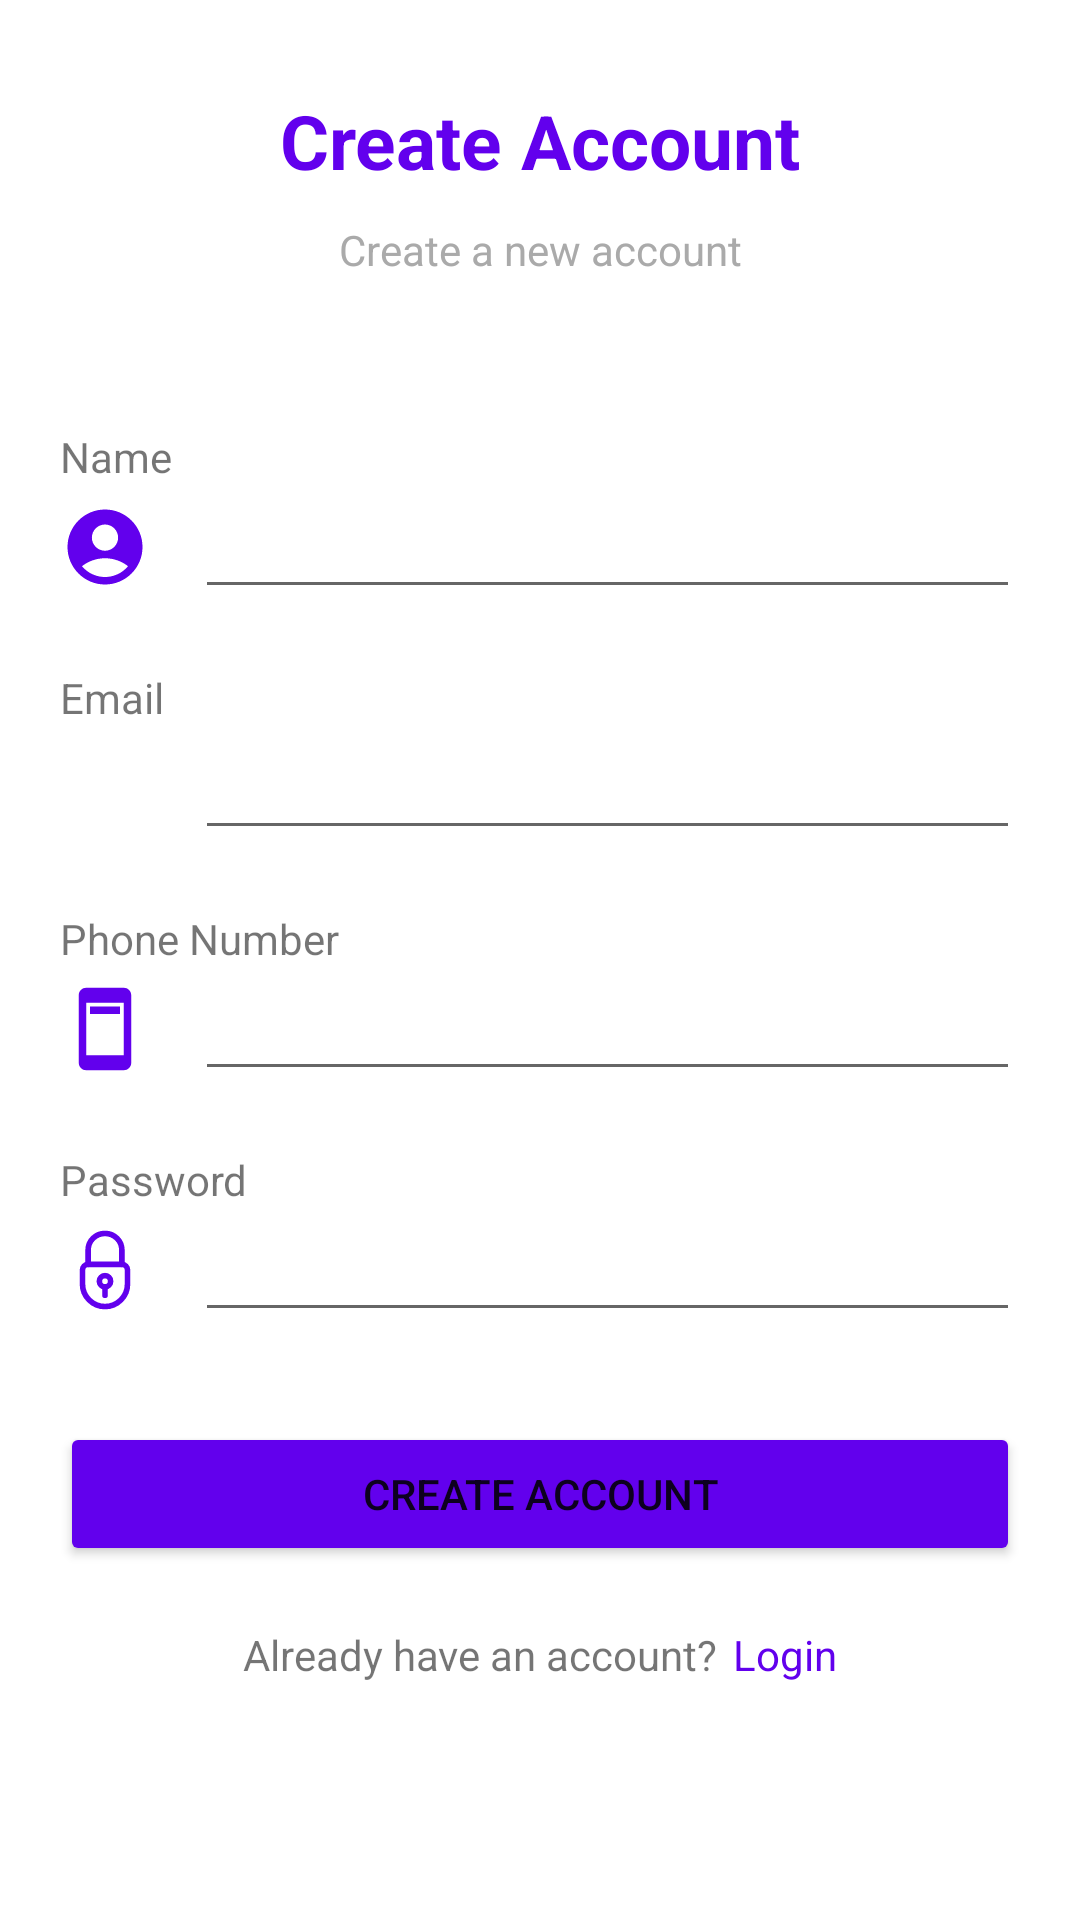

Locate icon controls on the screen. Image size 1080 x 1920, boxes as [x1, y1, x2, y2].
account circle: [67, 509, 143, 585]
ad units: [78, 987, 132, 1071]
